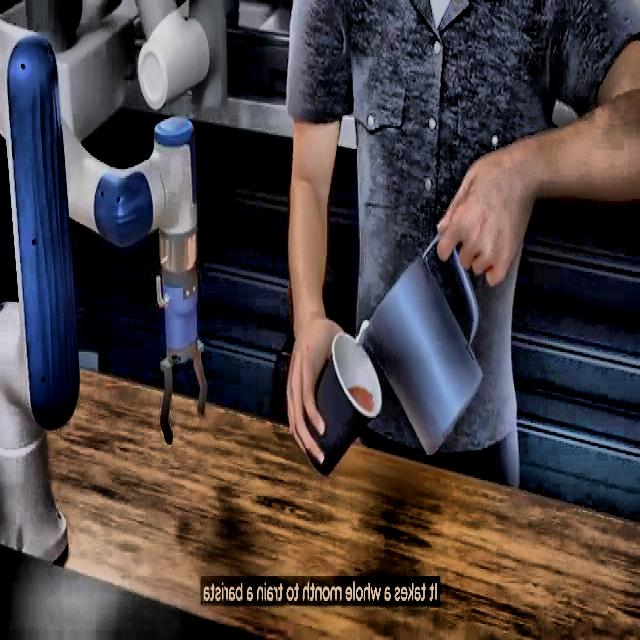robot: (1, 6, 210, 564)
